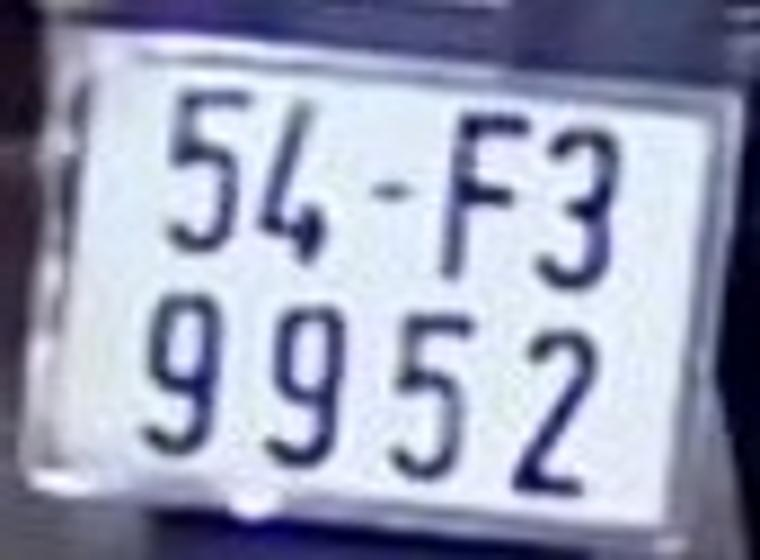-: (366, 167, 427, 213)
2: (507, 320, 599, 503)
3: (537, 102, 627, 294)
4: (253, 80, 341, 270)
5: (388, 298, 481, 487), (162, 81, 253, 255)
9: (259, 297, 352, 475), (136, 287, 229, 460)
F: (430, 100, 536, 283)
